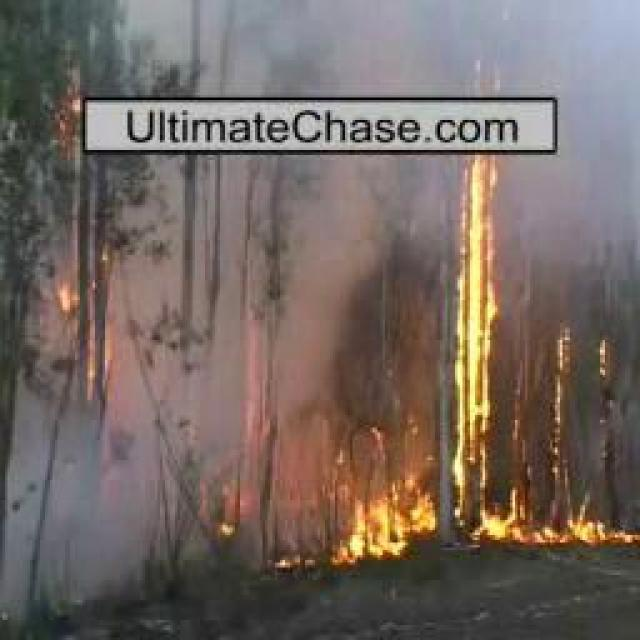Fire: (450, 110, 522, 540), (42, 220, 124, 398), (315, 454, 438, 564), (542, 518, 638, 548), (54, 88, 88, 139)
